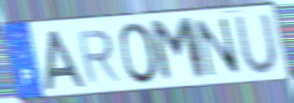A: (44, 28, 87, 92)
M: (146, 15, 211, 86)
N: (192, 16, 244, 79)
O: (117, 20, 162, 86)
R: (74, 28, 123, 86)
U: (232, 11, 283, 76)
